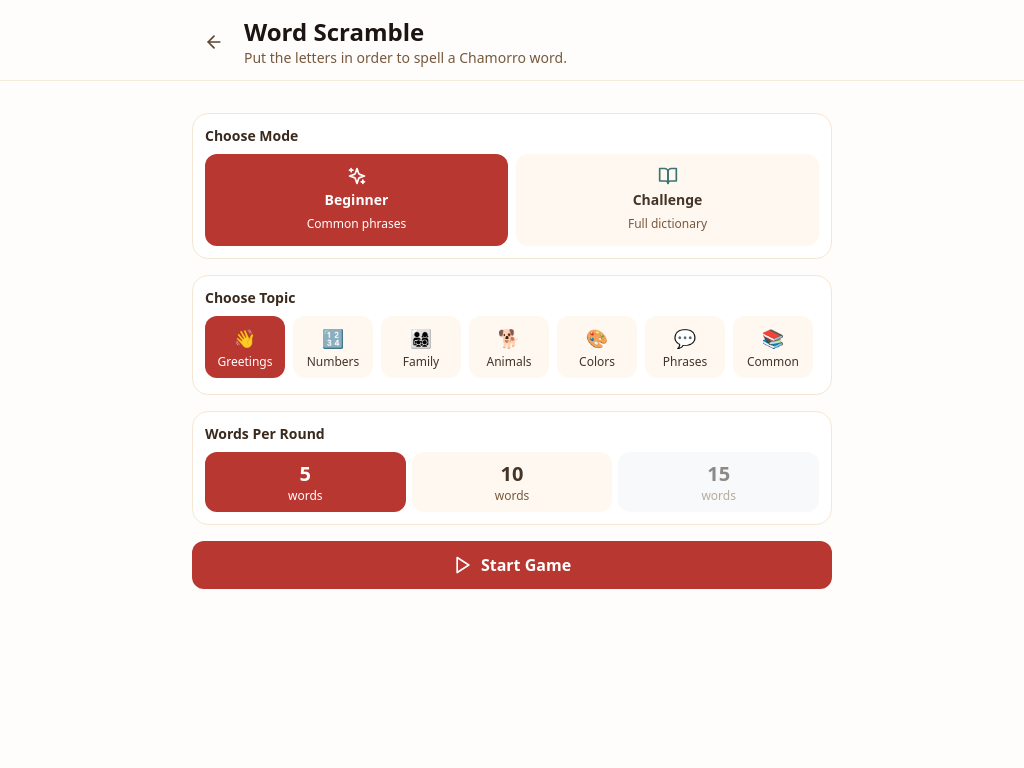
Test: game result and round reliability › Word Scramble guards header, browser Back and close, then leaves once
Later steps or results of the test are not shown.
Click the button "Start Game" at (512, 565), box [192, 541, 832, 589]
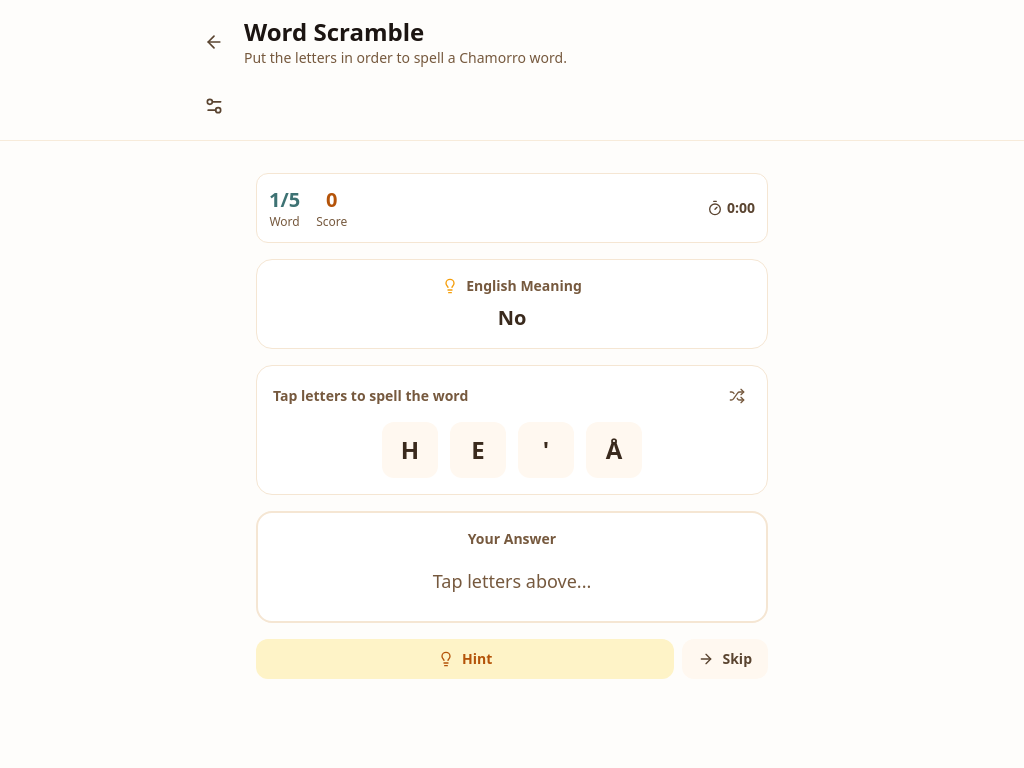
Expected: the button "Start Game" is gone
Click the button named "Back to games" at (214, 42), box [192, 20, 236, 64]
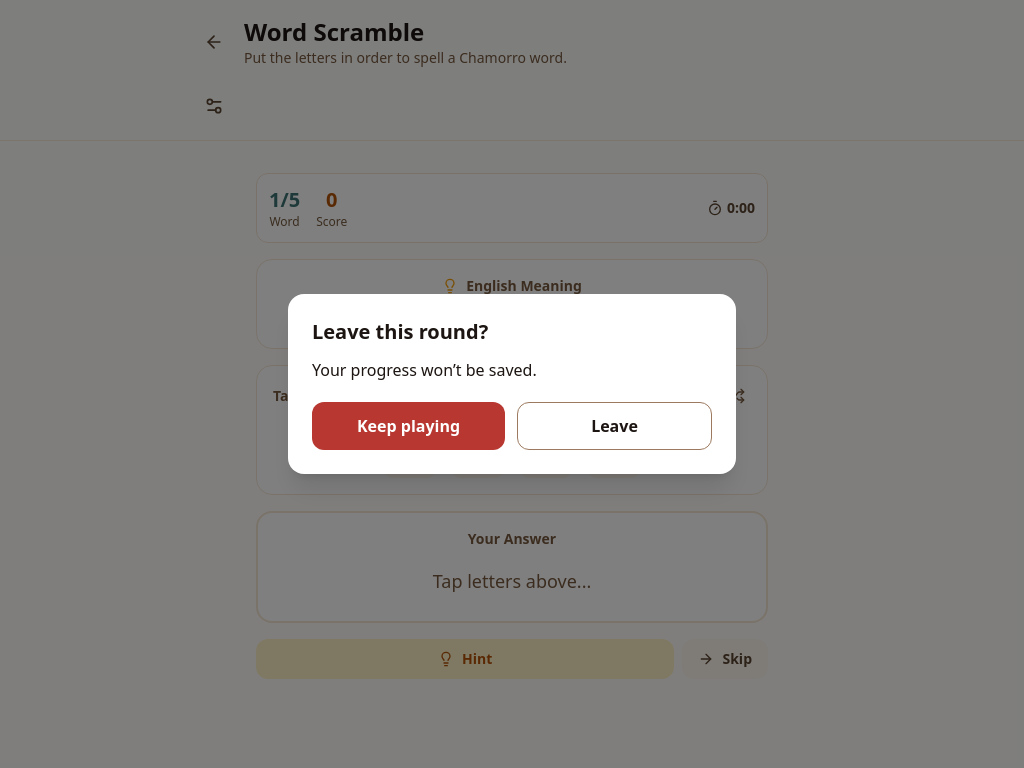
Expected: the dialog shows "Leave this round?", [312, 318, 488, 345]
